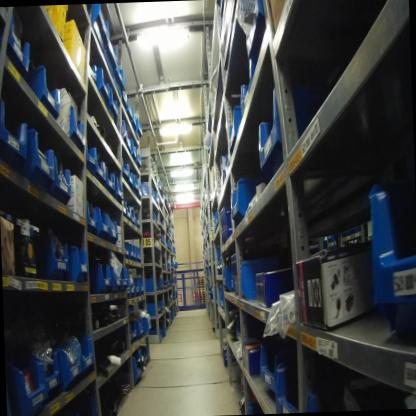pallet: (196, 281, 205, 285), (198, 299, 207, 303), (196, 278, 204, 282), (198, 288, 206, 292), (198, 297, 208, 300), (198, 284, 205, 288), (198, 303, 207, 306), (199, 294, 207, 297), (199, 291, 206, 294)
